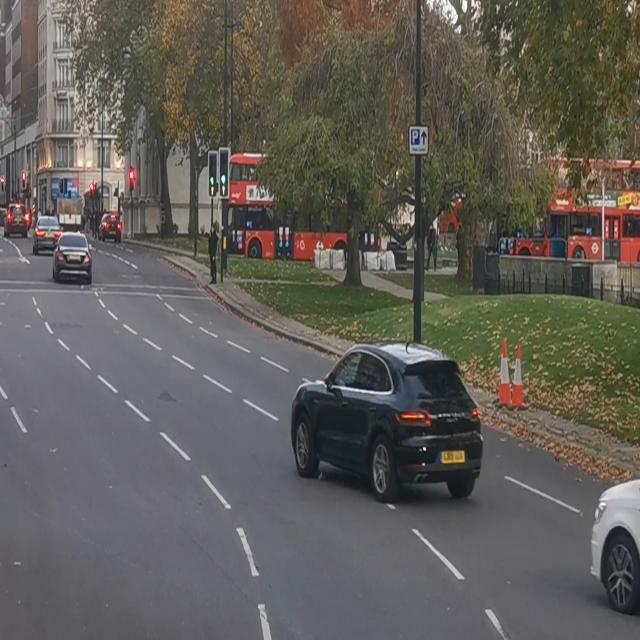Car: (291, 330, 486, 501), (55, 233, 95, 288), (35, 213, 63, 256), (98, 209, 124, 246)
